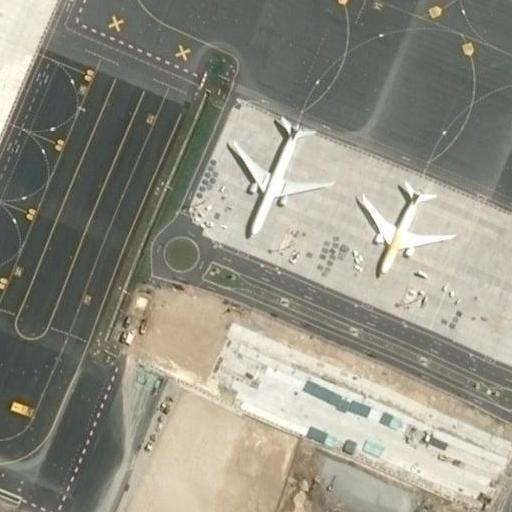Aircraft: (222, 112, 332, 239), (353, 177, 452, 281)
